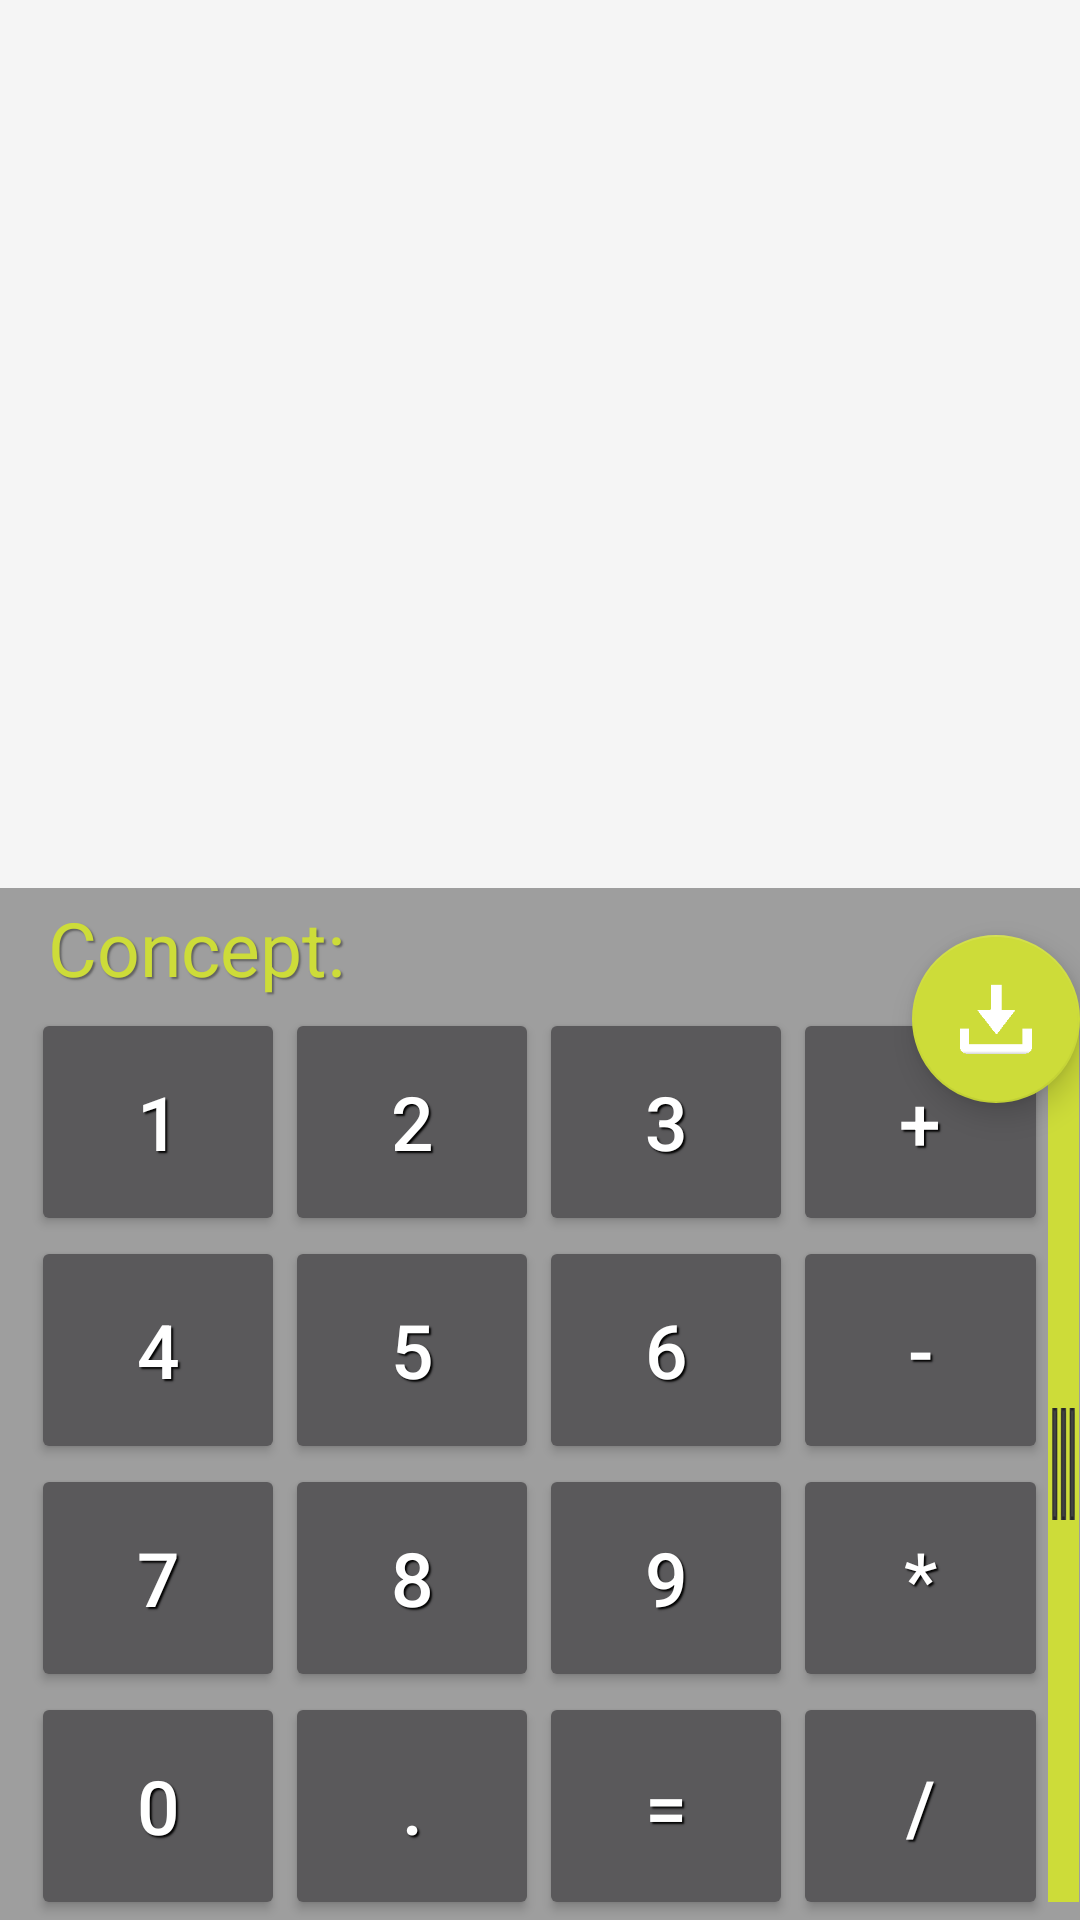

Where to tap for icons on this 1080x1920 app screen, as [x,y]:
rayas drawer: [1063,1464]
save: [996,1019]
